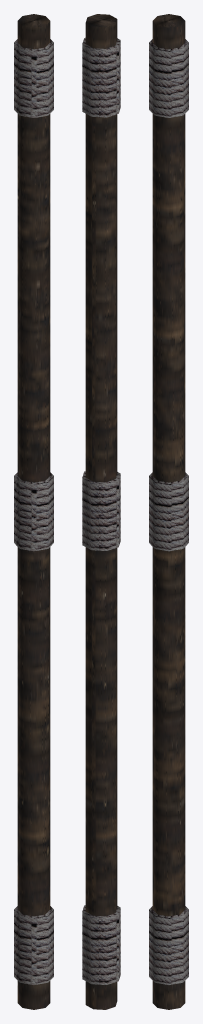
The model's file is Stick1.fbx.
3 views of the same model, side by side, from view 1: azimuth 90°, elevation 25°; view 2: azimuth 150°, elevation 25°; view 3: azimuth 270°, elevation 25° (orthographic).
Visible parts, largest first — view 1: Cylinder; view 2: Cylinder; view 3: Cylinder.
Part boxes in pixels (x1,y1,x2,y2): Cylinder: (14, 14, 53, 1009); Cylinder: (82, 14, 120, 1009); Cylinder: (149, 14, 188, 1009).
Size of the model in its own units: 26.69 by 723 by 26.69.
